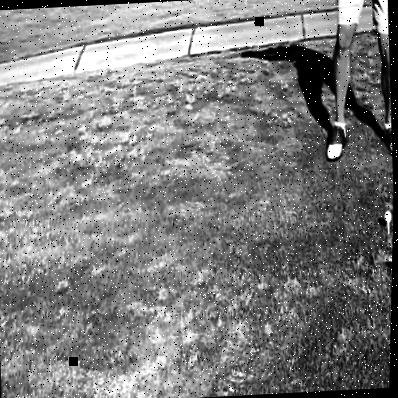ClubHead: (381, 202, 393, 227)
